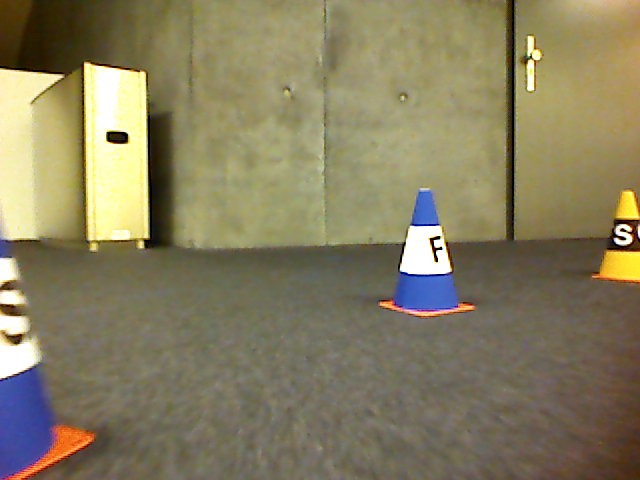bluecone: (380, 186, 475, 319)
yellowcone: (590, 189, 640, 284)
